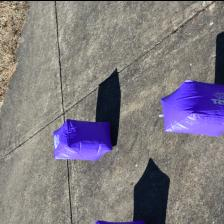cube: (160, 80, 224, 136), (53, 118, 112, 161), (94, 220, 146, 224)
